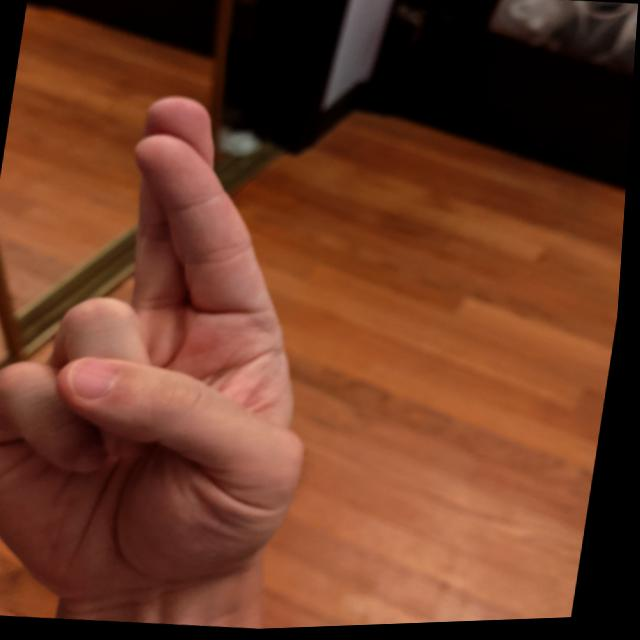R: (0, 69, 377, 631)
